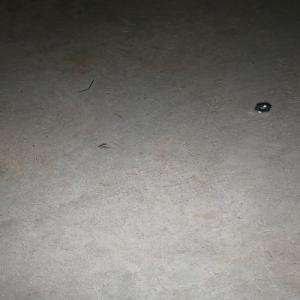Nut: (253, 103, 271, 114)
